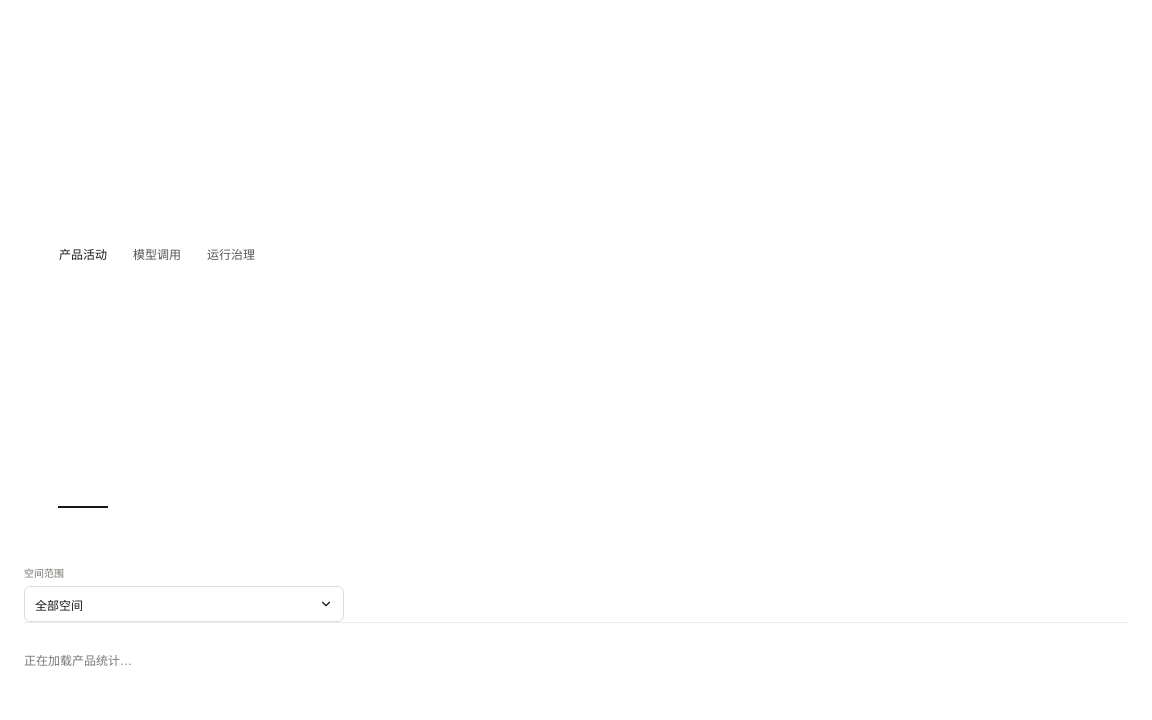
AnalyticsPage › keeps the latest result when an older request resolves last
Click the tab "模型调用" at (157, 254), box [132,0,182,509]
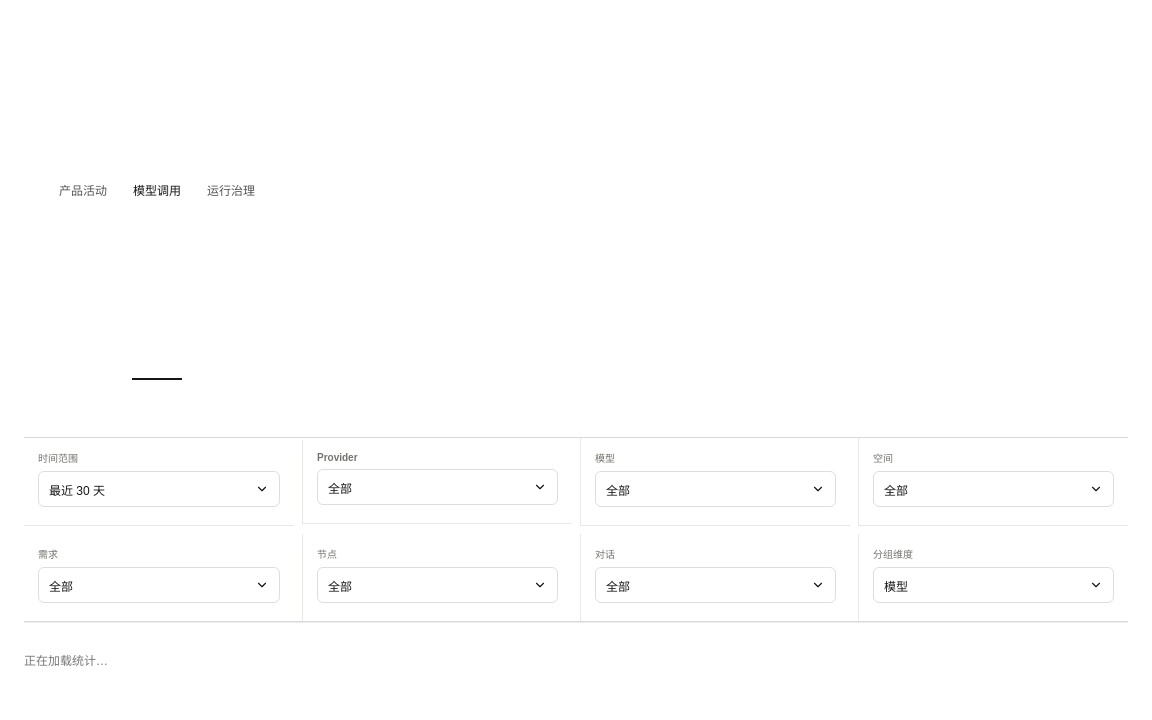
Replace the text in the dropdown labelled "分组维度" with "provider" at (993, 578), box [858,534,1128,621]
(page scrolled)
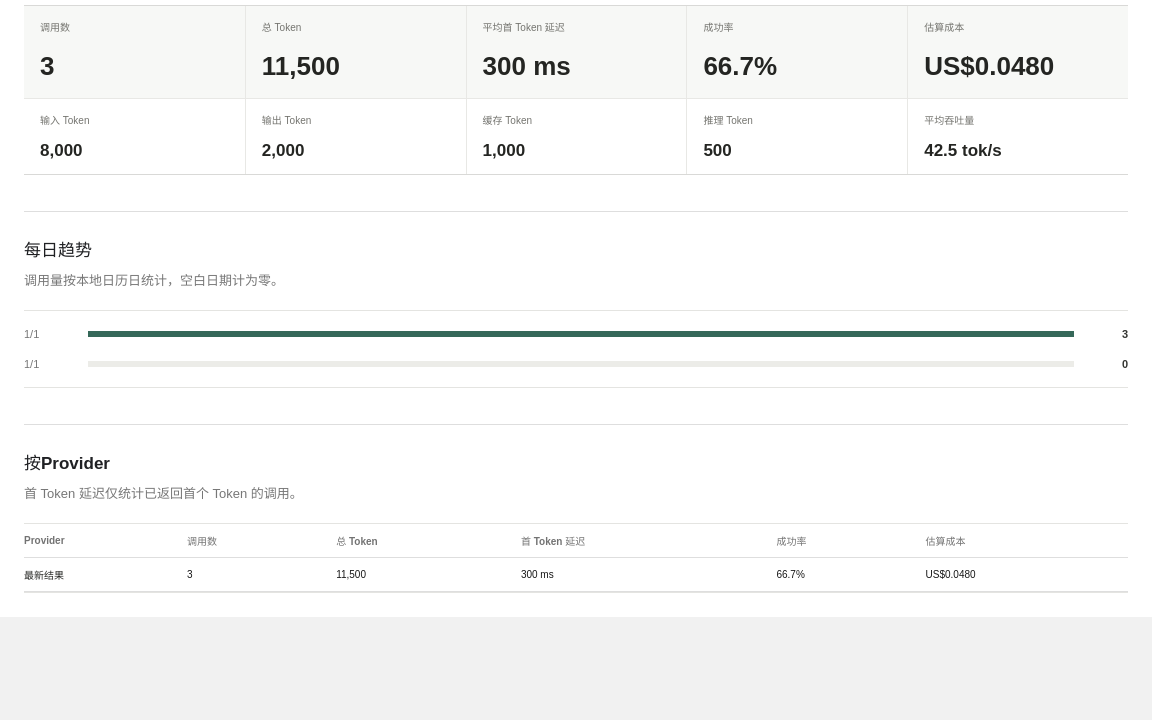
Check: the row "最新结果 3 11,500 300 ms 66.7% US$0.0480" is shown, box [24,558,1128,591]
